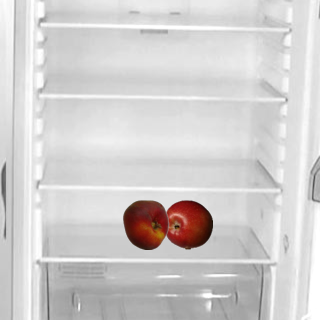Apple Braeburn: (162, 199, 212, 249)
Nectarine Flat: (120, 199, 170, 249)
